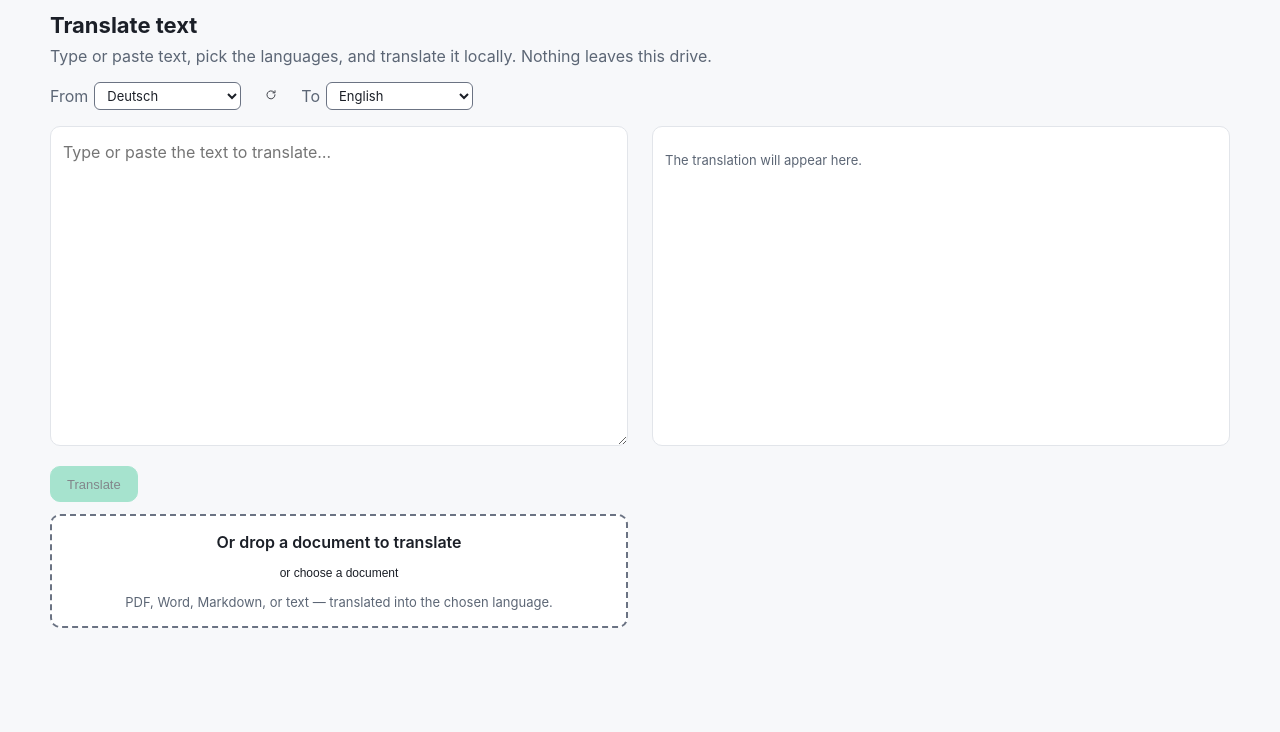
Test case: TranslateScreen — document translation (TG-5) › translates a document via the choose-a-document picker path
Expected: the text box labelled "text to translate" is shown, [50,126,628,446]
Click the button "or choose a document": (339, 573) [268,560,410,586]
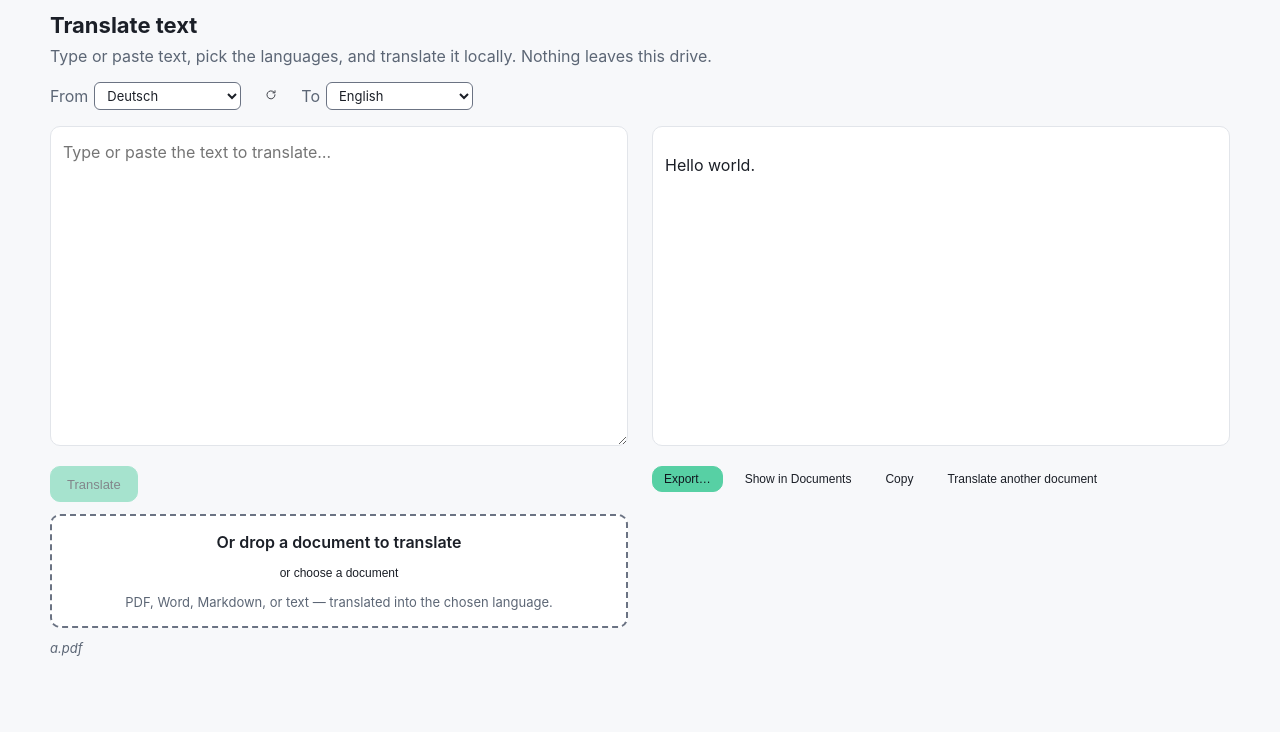
Now the text "Hello world." is shown, box [665,155,755,175]
